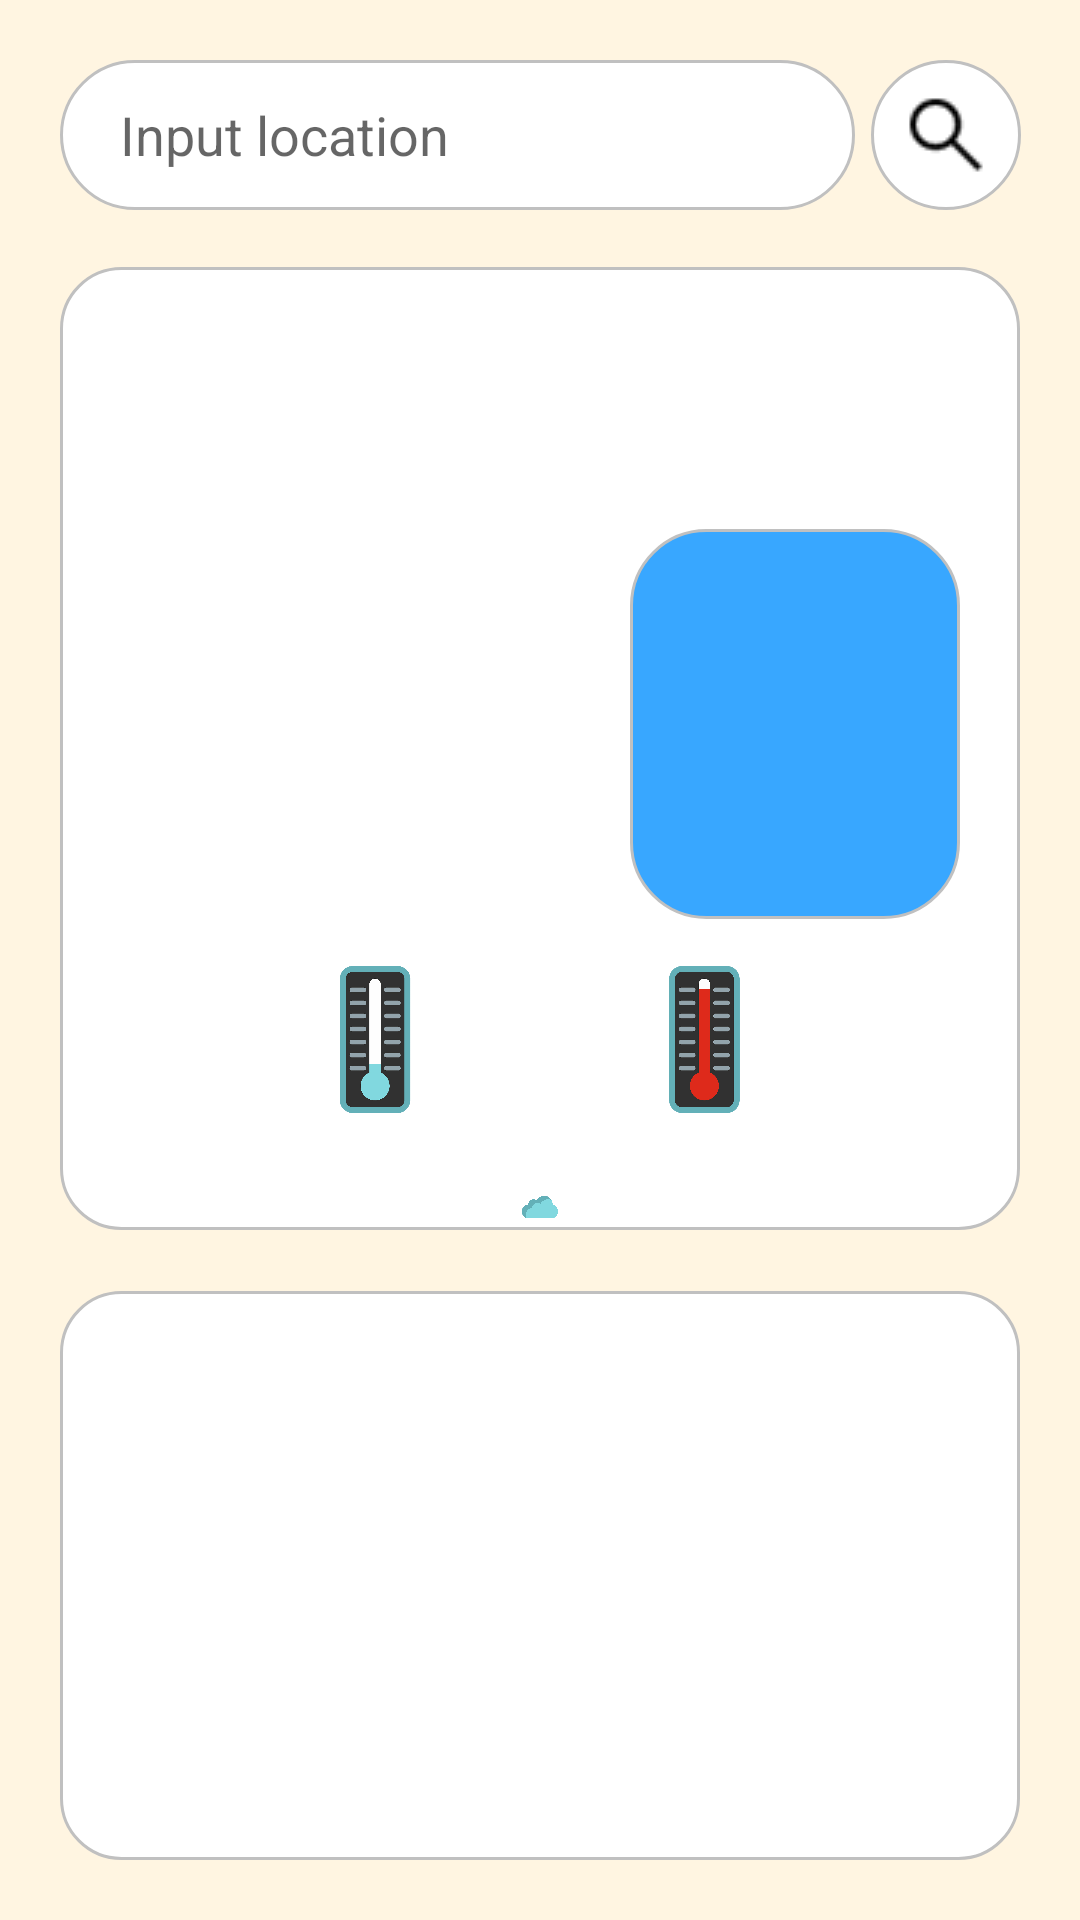

Point at icon controls on the screen. Image size 1080px×1920px, points as point (x, y).
maxtemp: point (704, 1039)
mintemp: point (375, 1039)
search: point (946, 135)
